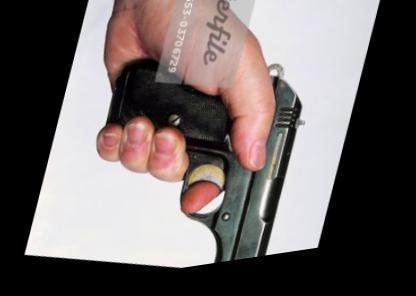pistol: (73, 6, 331, 284)
